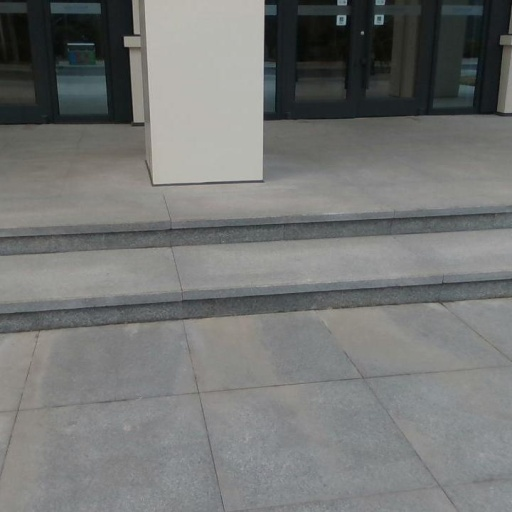Stairs: (0, 228, 512, 332)
